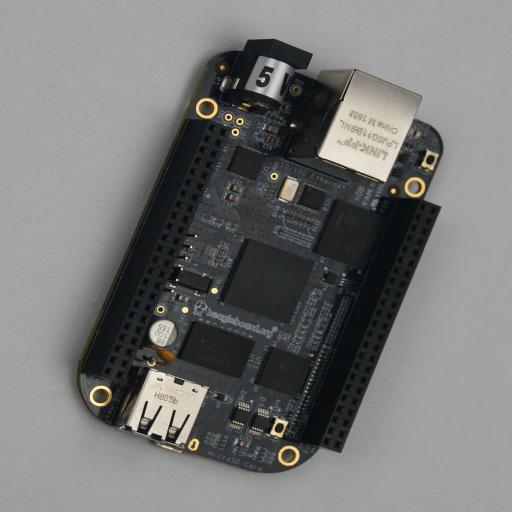Beaglebone Black: (70, 39, 443, 473)
